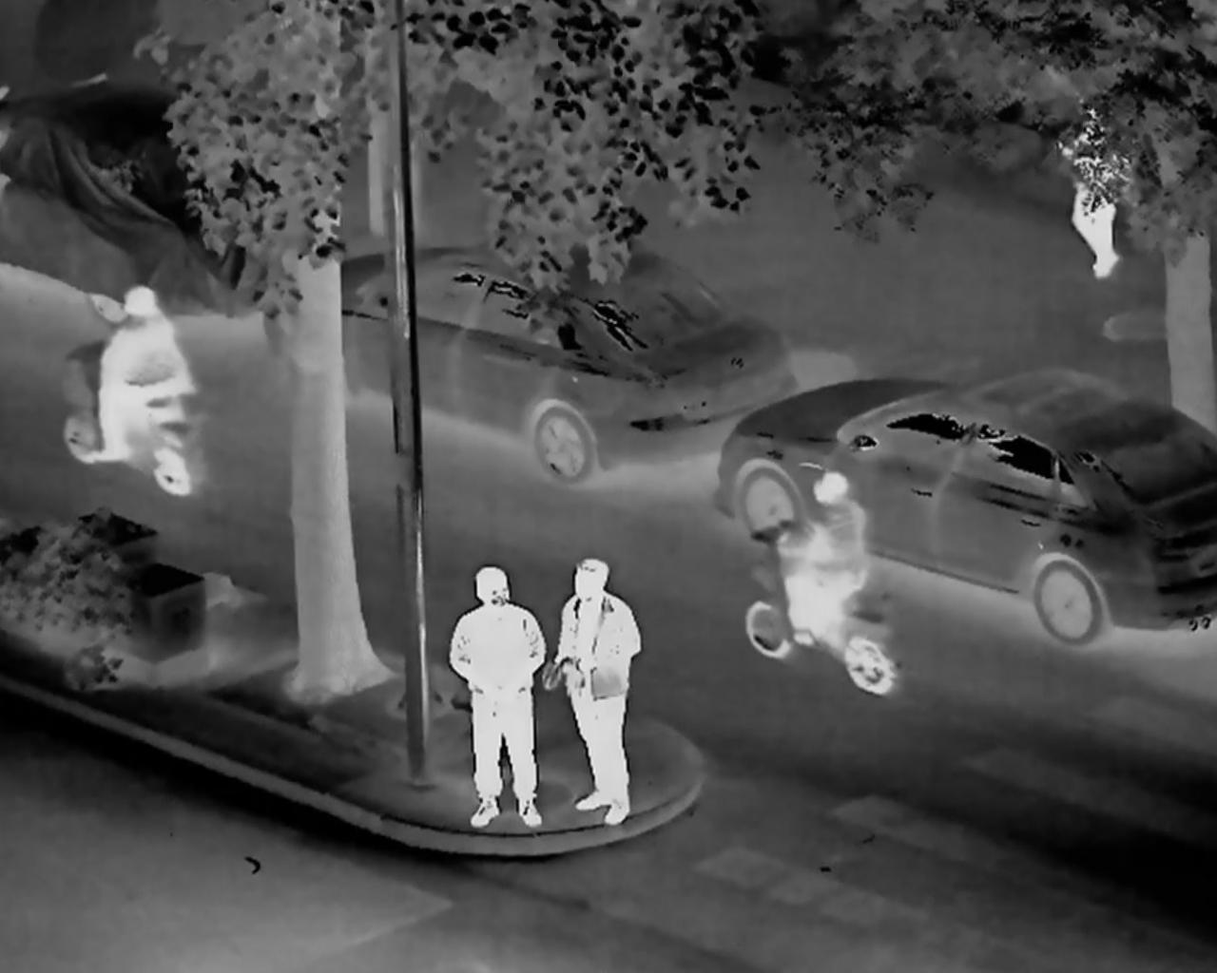person: (547, 536, 660, 835), (439, 558, 549, 832), (85, 266, 209, 489), (780, 465, 877, 676), (1059, 97, 1134, 288)
